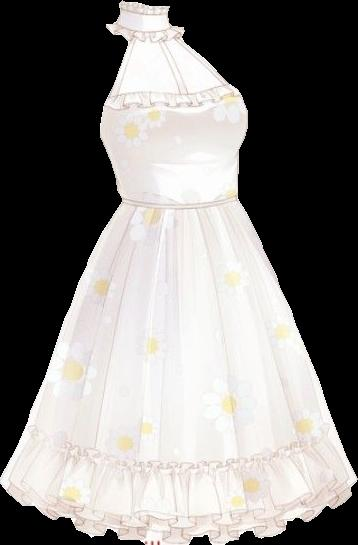Bodice: (100, 1, 247, 211)
Hemline: (0, 476, 357, 544)
Neckline: (107, 80, 228, 103), (105, 24, 183, 42), (120, 0, 169, 12)
Skirt: (0, 202, 357, 544)
Waistline: (120, 198, 239, 214)
